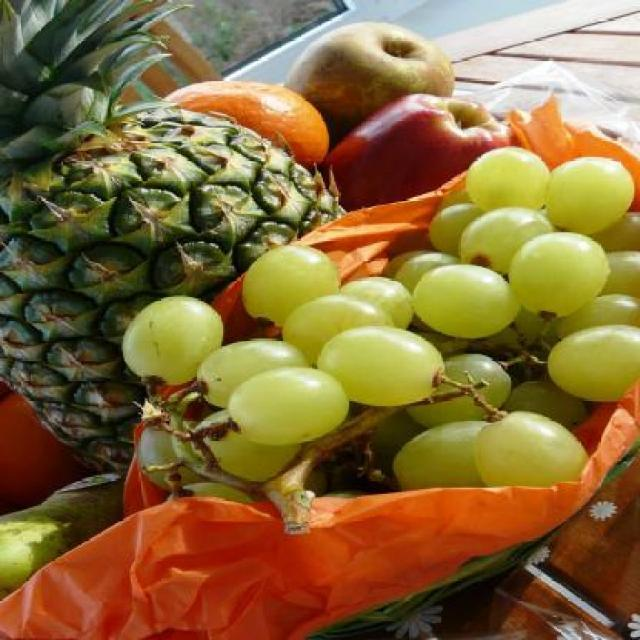Pineapple: (0, 0, 368, 483)
